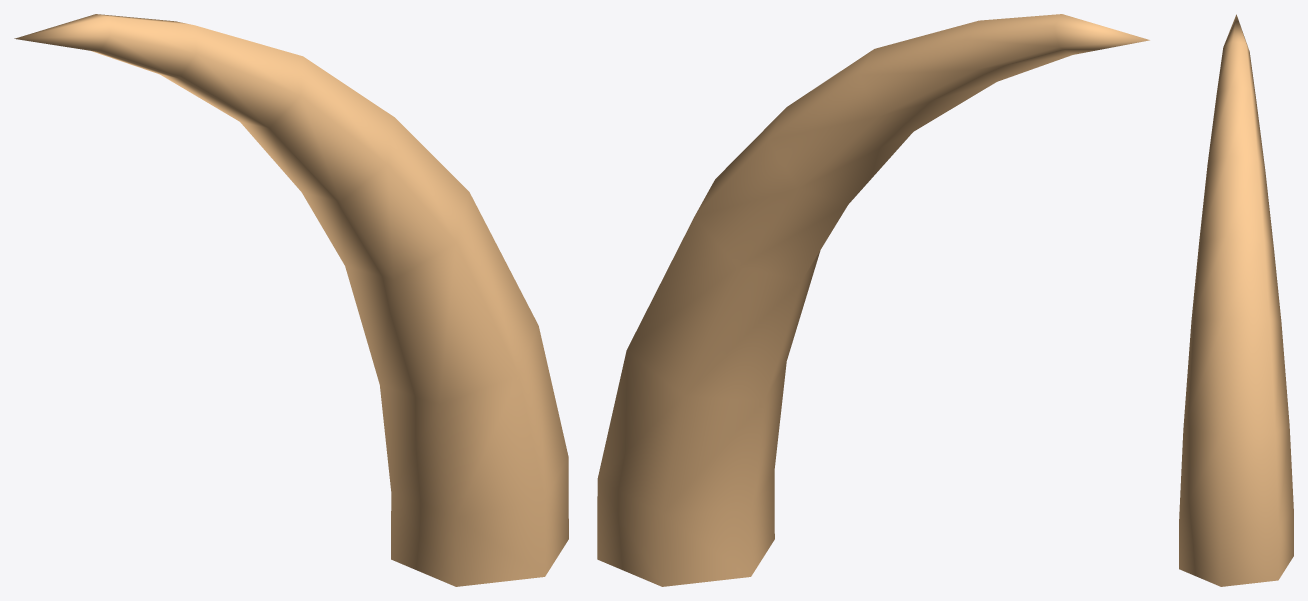
The model's file is Bone_3.fbx.
3 renders of one model, left to right at view 1: azimuth 30°, elevation 25°; view 2: azimuth 150°, elevation 25°; view 3: azimuth 270°, elevation 25°, orthographic. The views are drawn at different scales.
Parts seen in each view (by area): view 1: Bone_3; view 2: Bone_3; view 3: Bone_3.
Part boxes in pixels (left/top/right/bottom): Bone_3: left=14, top=14, right=568, bottom=586; Bone_3: left=597, top=14, right=1149, bottom=586; Bone_3: left=1179, top=14, right=1293, bottom=586.
Bounding box in the file's own units: 15.18 × 16.73 × 4.31.
